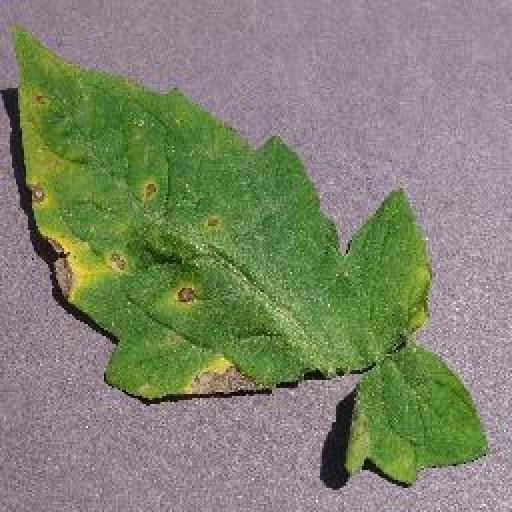disease_tomato: (11, 12, 439, 407)
